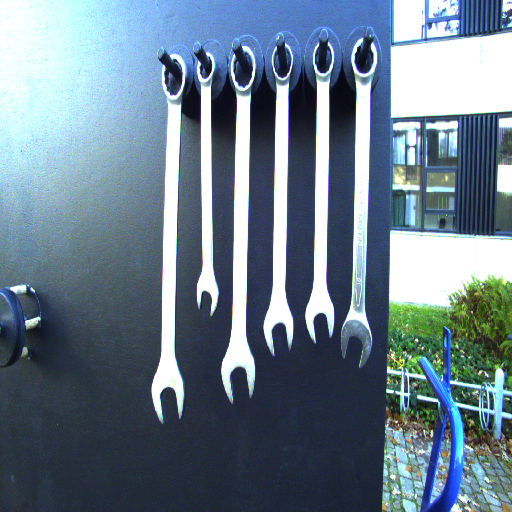bottom: (215, 350, 264, 407), (149, 373, 191, 424), (337, 321, 375, 371), (260, 311, 299, 357), (302, 302, 337, 346), (193, 278, 221, 320)
top: (227, 44, 261, 95), (156, 52, 188, 102), (349, 35, 380, 78), (270, 42, 298, 83), (310, 40, 337, 78), (195, 51, 216, 85)
